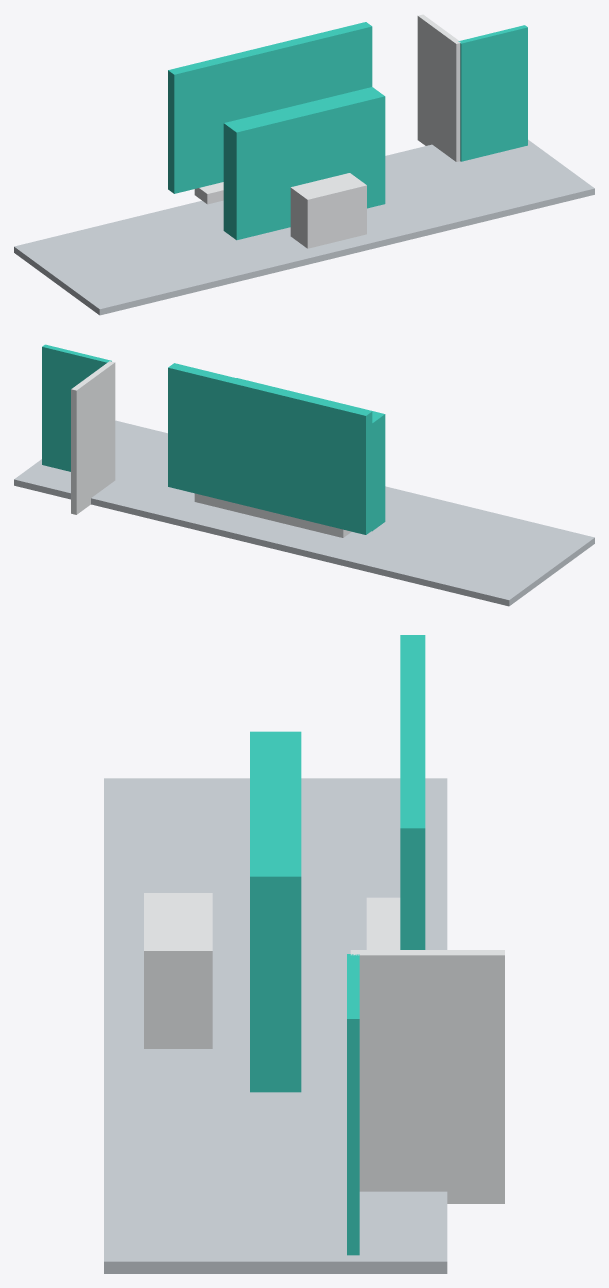
3 renders of one model, top to bottom at view 1: azimuth 30°, elevation 25°; view 2: azimuth 150°, elevation 25°; view 3: azimuth 270°, elevation 25°, orthographic. The views are drawn at different scales.
Parts seen in each view (by area): view 1: Exhibition Booth Concept; view 2: Exhibition Booth Concept; view 3: Exhibition Booth Concept.
Part boxes in pixels (left/top/right/bottom): Exhibition Booth Concept: left=14, top=14, right=594, bottom=315; Exhibition Booth Concept: left=14, top=344, right=594, bottom=606; Exhibition Booth Concept: left=104, top=635, right=504, bottom=1273.
Bounding box in the file's own units: 10 × 2.9 × 3.51.
